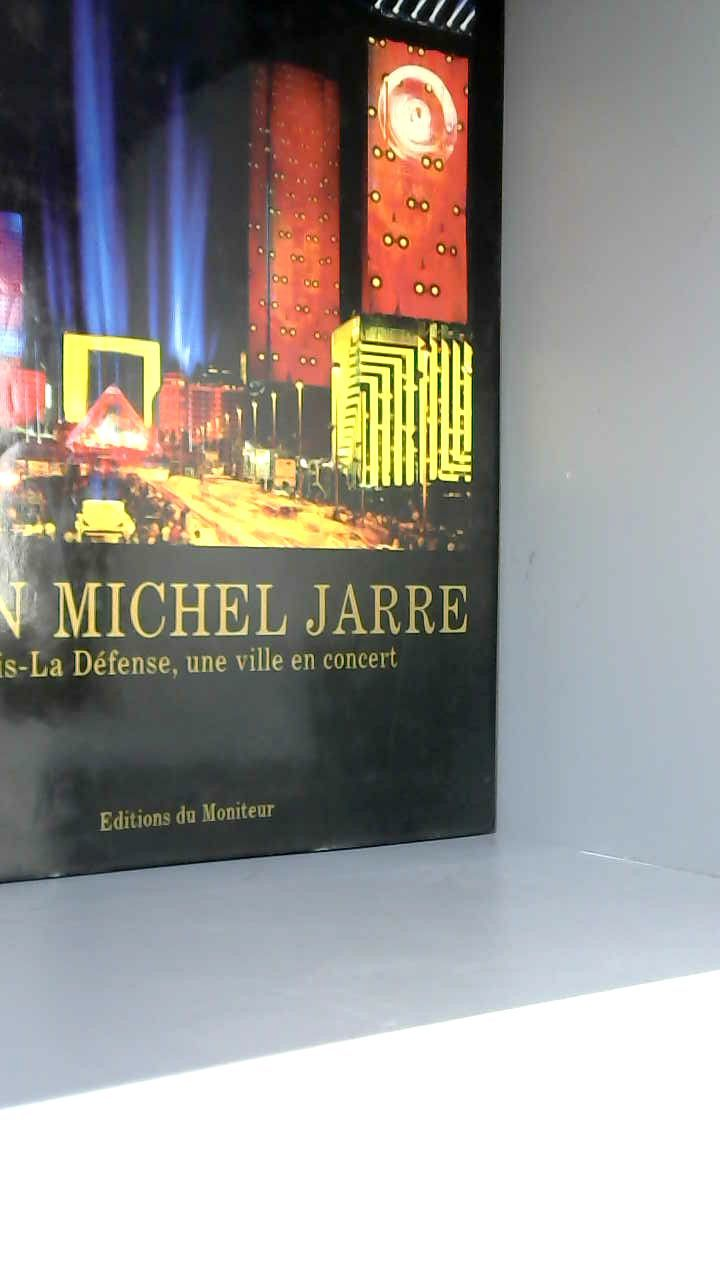book: (0, 0, 555, 901)
